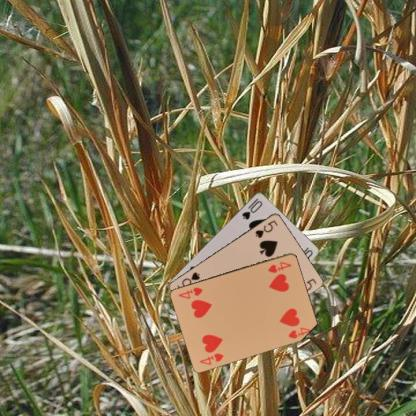10s: (239, 195, 264, 221)
4h: (197, 350, 225, 366), (265, 259, 292, 274)
5s: (253, 217, 279, 239)
